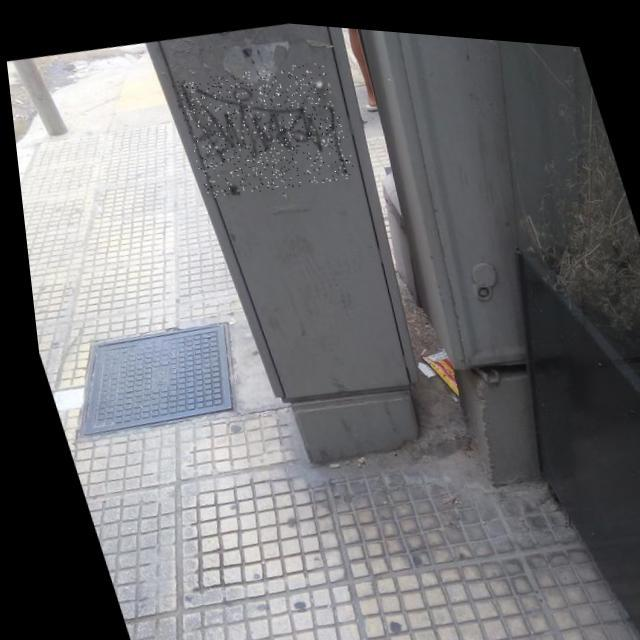-: (166, 46, 358, 204)
